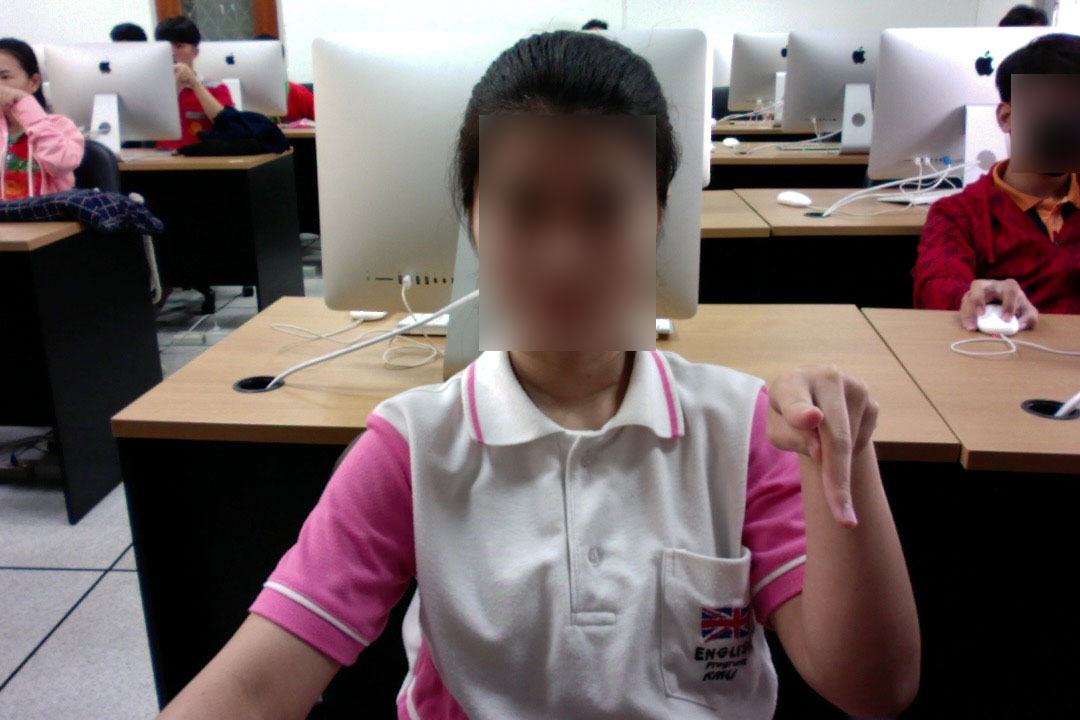por: (757, 353, 887, 535)
